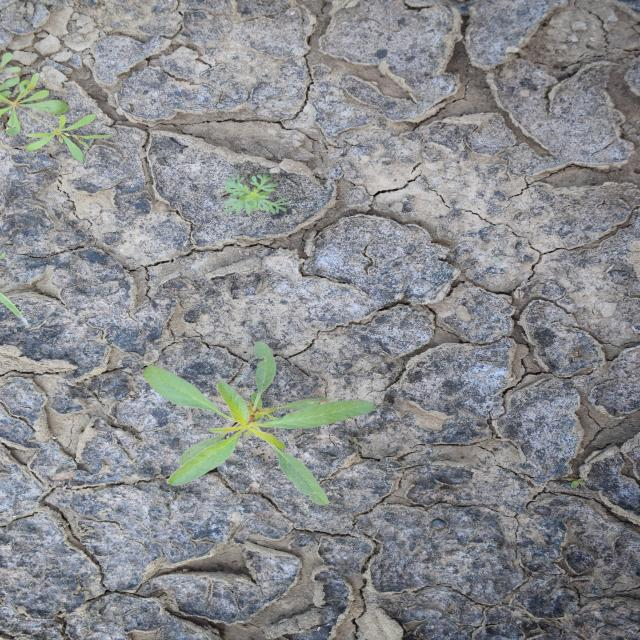Carpetweed: (1, 51, 114, 165)
Ragweed: (217, 172, 293, 216)
Waterhemp: (140, 339, 378, 508)
